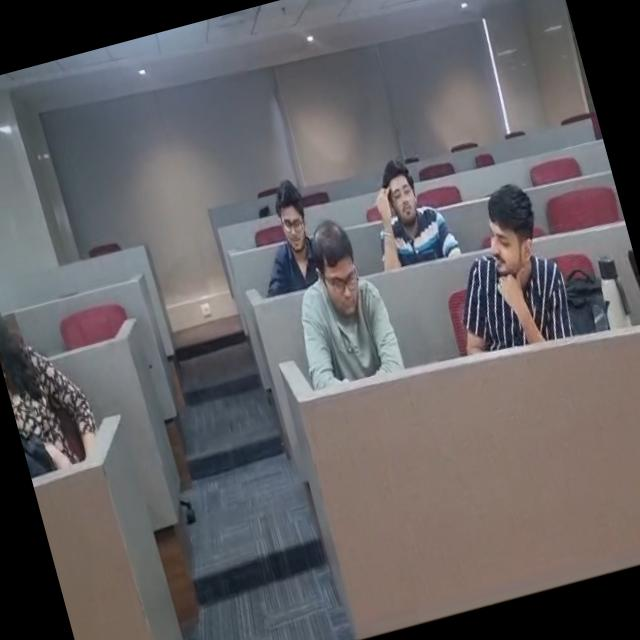cheating: (414, 170, 594, 369)
non-cheating: (342, 138, 459, 276), (284, 225, 394, 359), (244, 172, 325, 276)
